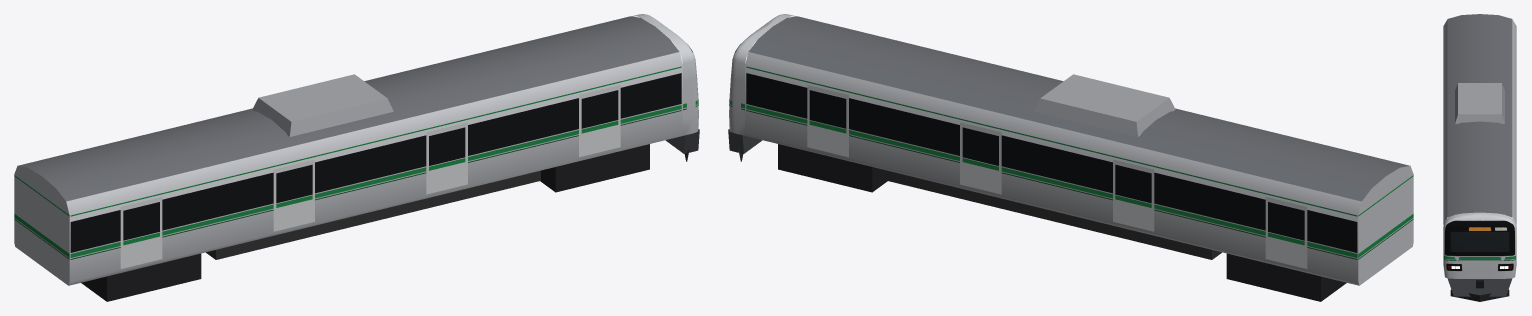
File: r122_Tc_far.glb
3 views of the same model, side by side, from view 1: azimuth 30°, elevation 25°; view 2: azimuth 150°, elevation 25°; view 3: azimuth 270°, elevation 25° (orthographic). The views are drawn at different scales.
Visible parts, largest first — view 1: far_body, far_detail, far_roof_under, opt_ac; view 2: far_body, far_detail, far_roof_under, opt_ac; view 3: far_body, opt_ac, far_roof_under, far_detail, opt_snow_plow.
Boxes of the visible parts, left/top/right/bottom form: far_body: left=14, top=14, right=698, bottom=285; far_detail: left=70, top=66, right=698, bottom=268; far_roof_under: left=81, top=129, right=699, bottom=301; opt_ac: left=252, top=74, right=393, bottom=136; far_body: left=729, top=14, right=1413, bottom=285; far_detail: left=729, top=66, right=1357, bottom=268; far_roof_under: left=728, top=129, right=1346, bottom=301; opt_ac: left=1034, top=74, right=1175, bottom=136; far_body: left=1443, top=14, right=1516, bottom=278; opt_ac: left=1455, top=83, right=1504, bottom=123; far_roof_under: left=1447, top=278, right=1512, bottom=296; far_detail: left=1444, top=256, right=1515, bottom=268; opt_snow_plow: left=1450, top=289, right=1509, bottom=301.
Bounding box in the file's own units: 19.79 × 3.88 × 3.01.
16 materials, 1 textured.
